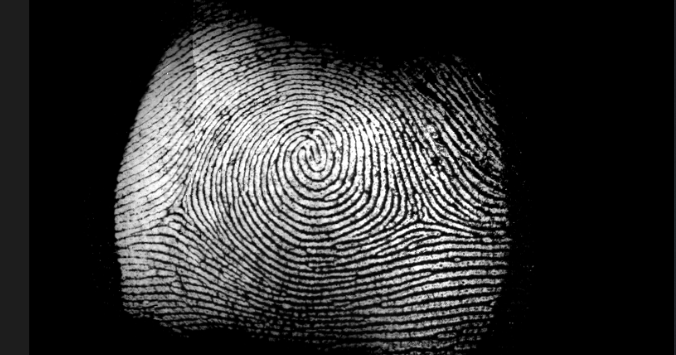nucelo: (294, 147, 319, 170)
verticilo: (163, 195, 188, 217), (406, 209, 428, 230)
